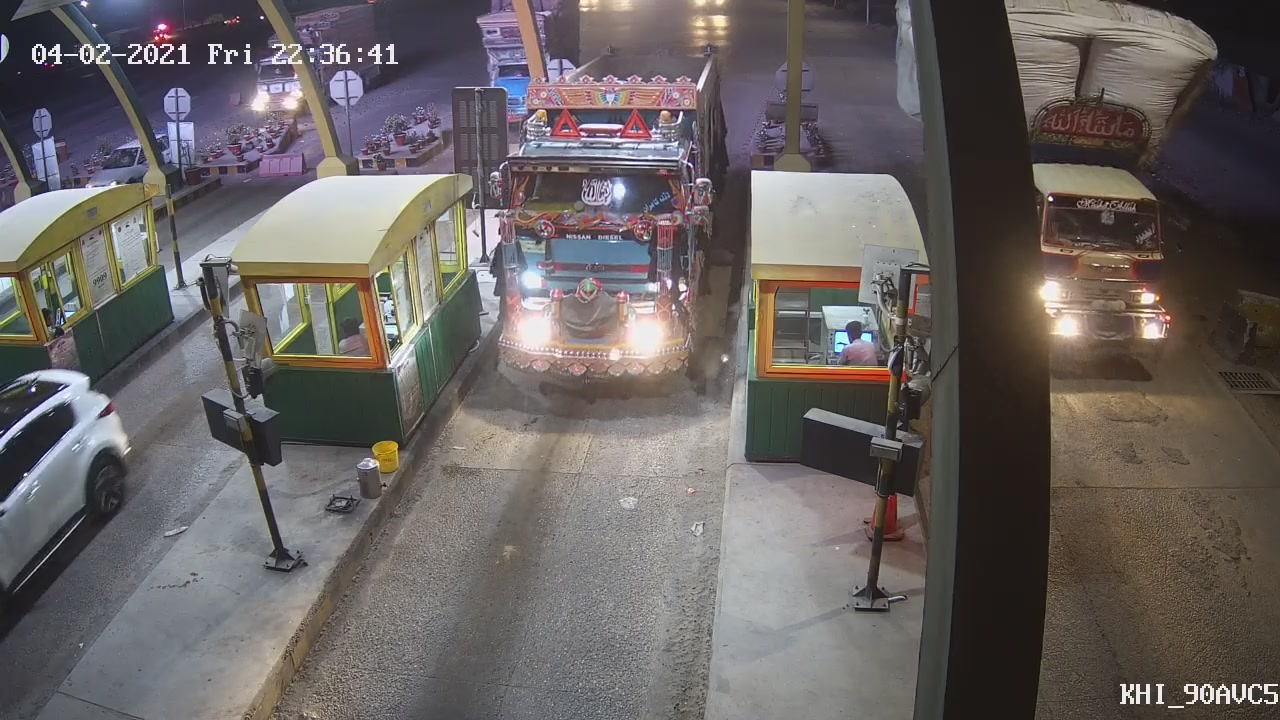F5: (480, 98, 716, 398)
